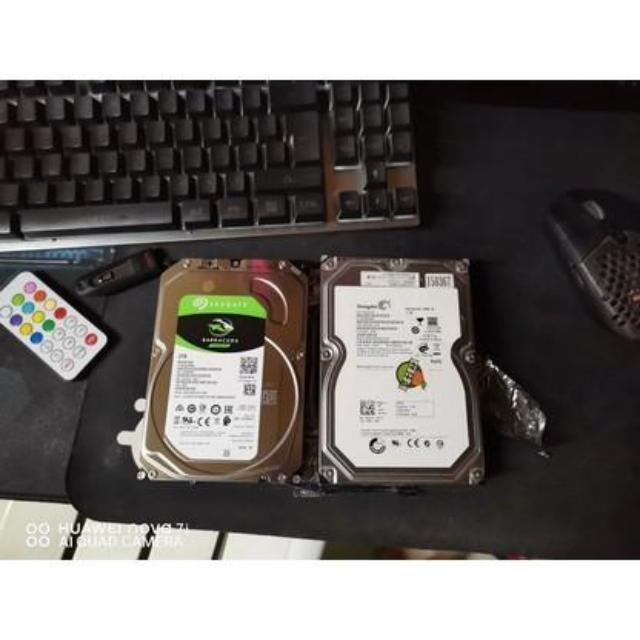DISK: (144, 253, 312, 501), (316, 253, 487, 495)
